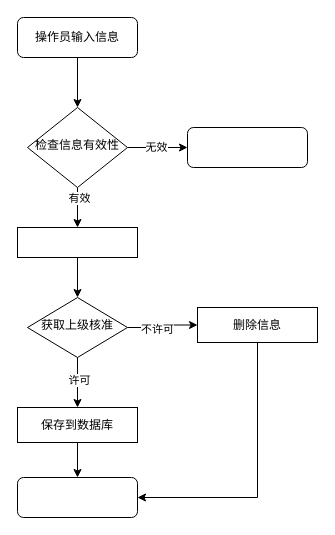
The diagram is 335 pixels wide and 535 high, and some of its shapes have lost their labels. Here are the shapes that lost their labels. From the top down, the box of each, then its label:
(186, 126, 308, 168): 放弃输入
(16, 226, 138, 258): 记录信息
(16, 476, 138, 518): 结束
